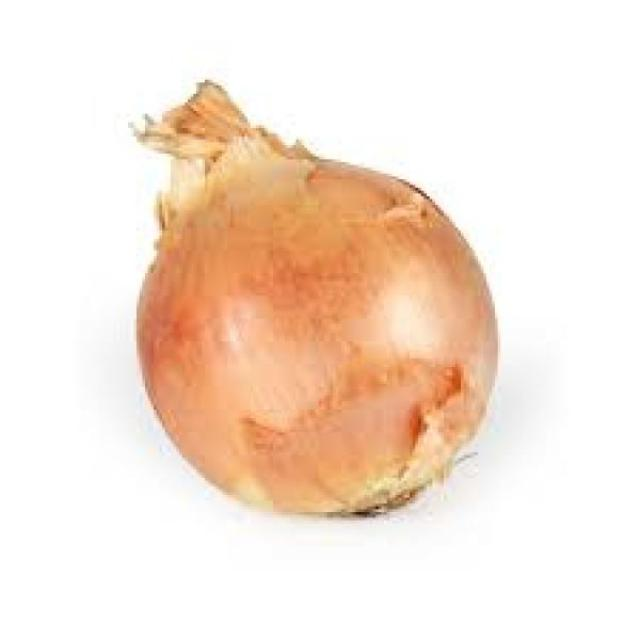Onion: (128, 81, 501, 519)
